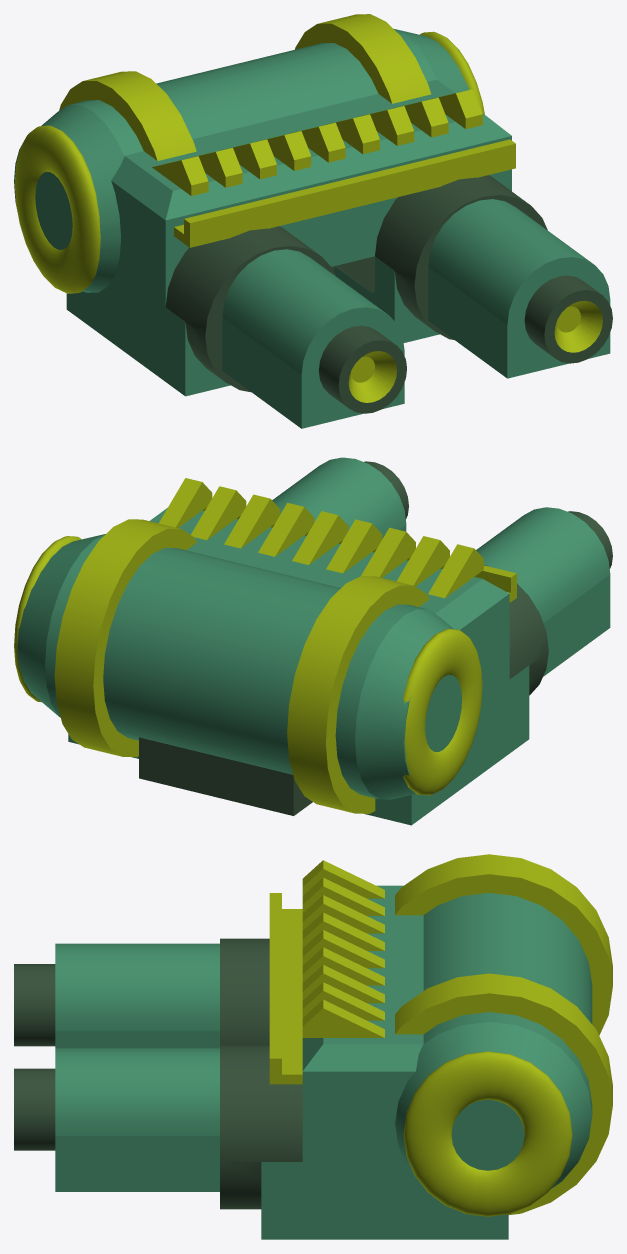
Rendered from laser_blaster.fbx.
3 renders of one model, top to bottom at view 1: azimuth 30°, elevation 25°; view 2: azimuth 150°, elevation 25°; view 3: azimuth 270°, elevation 25°, orthographic. The views are drawn at different scales.
Parts seen in each view (by area): view 1: mergedBlocks; view 2: mergedBlocks; view 3: mergedBlocks.
Part boxes in pixels (x1=…): mergedBlocks: x1=14, y1=14, x2=612, y2=428; mergedBlocks: x1=14, y1=457, x2=612, y2=825; mergedBlocks: x1=14, y1=854, x2=612, y2=1239.
Size of the model in its own units: 11.78 by 6.1 by 14.53.
Materials: 1 (1 with a texture image).
